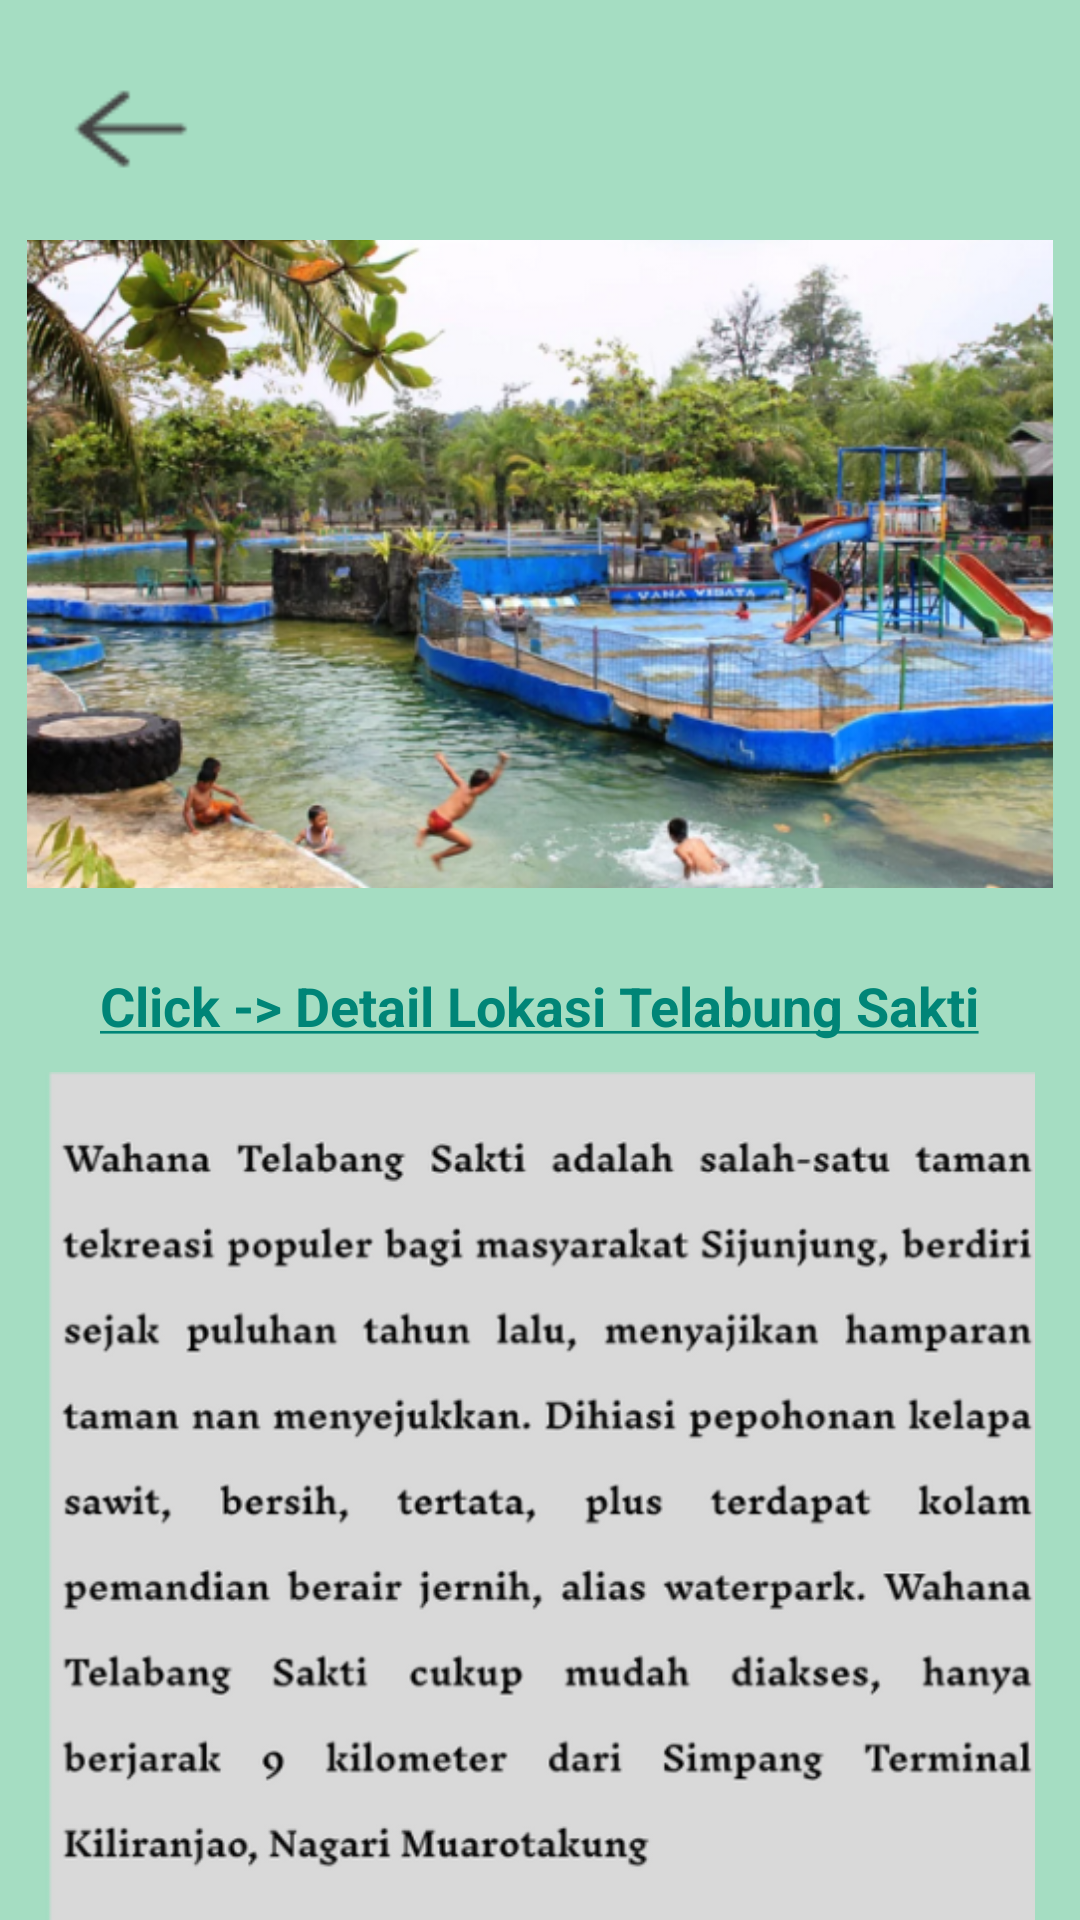

Where to tap for icons on this 1080 x 1920 app screen, as [x,y]:
back: [131,129]
